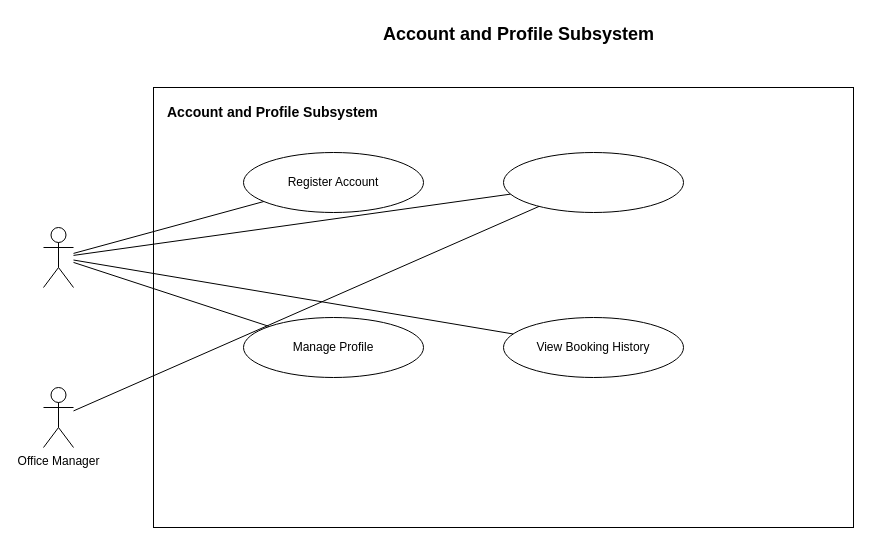
Image size: 871x545. Some labels were removed from this diagram. The centre of each missing label's shape, as x and y in pixels:
"Employee" belongs at point 58,257.
"Sign In" belongs at point 593,182.
